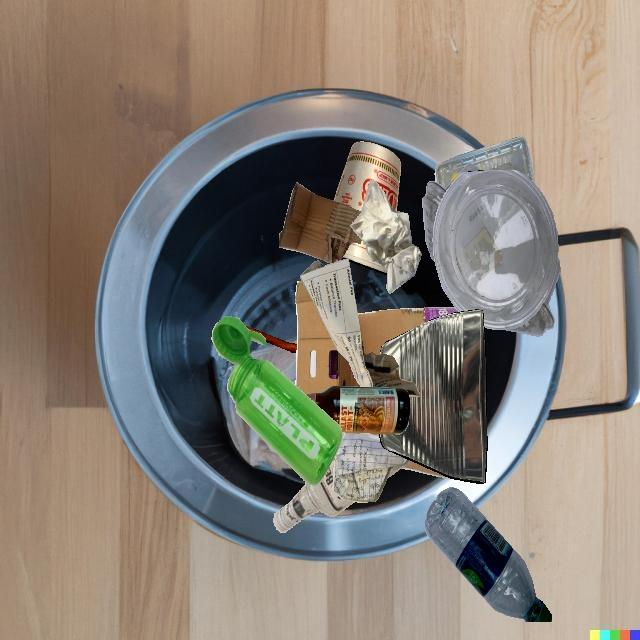biowaste: (245, 325, 297, 352)
cardboard: (371, 313, 452, 465), (279, 182, 361, 263), (295, 281, 349, 394), (358, 307, 459, 355), (343, 361, 371, 432)
glass: (273, 453, 355, 533), (305, 386, 410, 434), (334, 432, 401, 464)
metal: (380, 309, 487, 484)
paper: (300, 259, 420, 397), (350, 179, 422, 293), (333, 432, 411, 502)
plastic: (211, 316, 343, 486), (432, 170, 558, 330), (424, 487, 551, 622), (422, 163, 480, 261), (435, 136, 535, 188), (504, 258, 561, 336)
trash: (333, 141, 402, 212)
